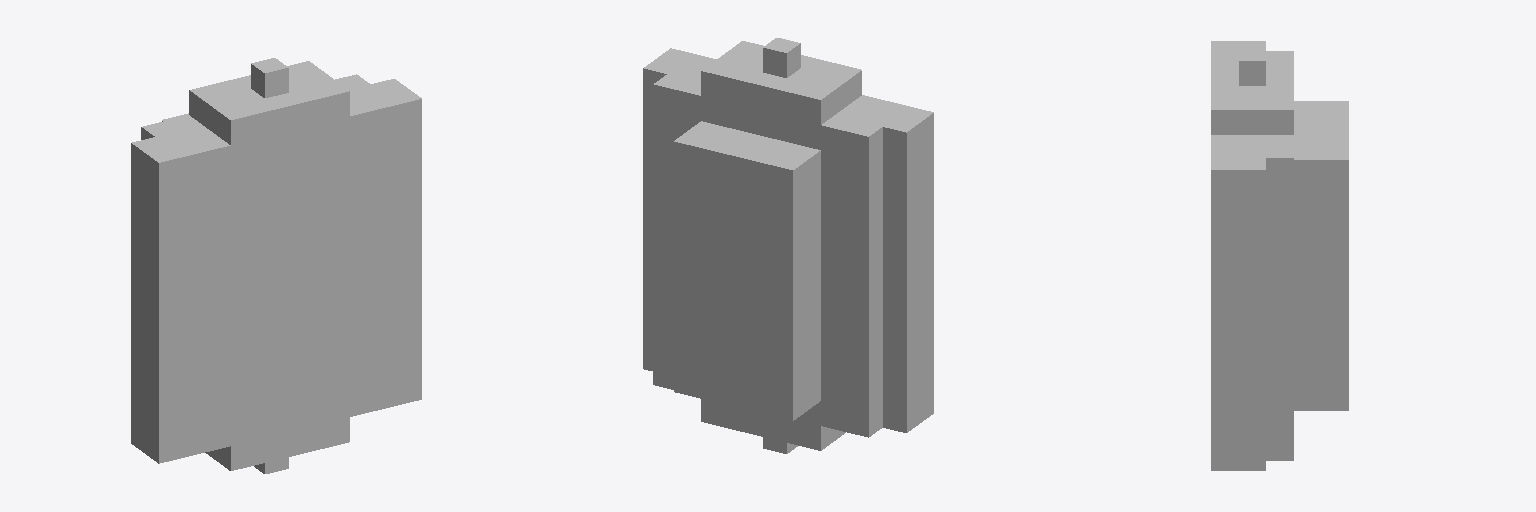
File: mirror.obj
3 renders of one model, left to right at view 1: azimuth 30°, elevation 25°; view 2: azimuth 150°, elevation 25°; view 3: azimuth 270°, elevation 25°, orthographic.
Parts seen in each view (by area): view 1: object 1; view 2: object 1; view 3: object 1.
Boxes of the visible parts, x1,y1,x2,y2 form: object 1: [131, 58, 421, 473]; object 1: [643, 38, 933, 453]; object 1: [1211, 41, 1348, 470].
Bounding box in the file's own units: 1.1 × 1.6 × 0.5.